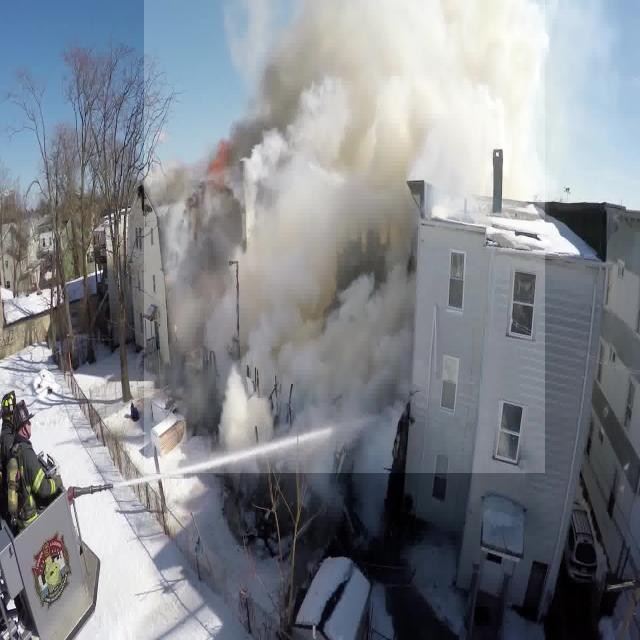Smoke: (144, 0, 545, 473)
